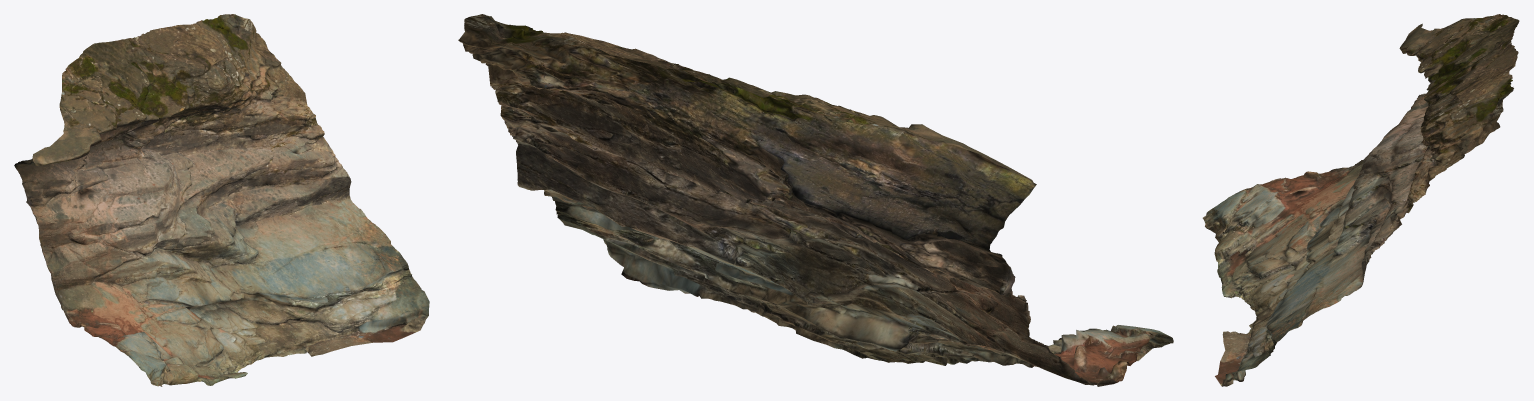
The model's file is prop_outcrop_face_a.glb.
3 views of the same model, side by side, from view 1: azimuth 30°, elevation 25°; view 2: azimuth 150°, elevation 25°; view 3: azimuth 270°, elevation 25° (orthographic). The views are drawn at different scales.
Visible parts, largest first — view 1: rock_face_01; view 2: rock_face_01; view 3: rock_face_01.
Part boxes in pixels (x1,y1,x2,y2): rock_face_01: [14, 14, 429, 386]; rock_face_01: [458, 14, 1173, 386]; rock_face_01: [1202, 14, 1519, 386].
Size of the model in its own units: 4.95 by 3.57 by 3.83.
1 material, 1 textured.
